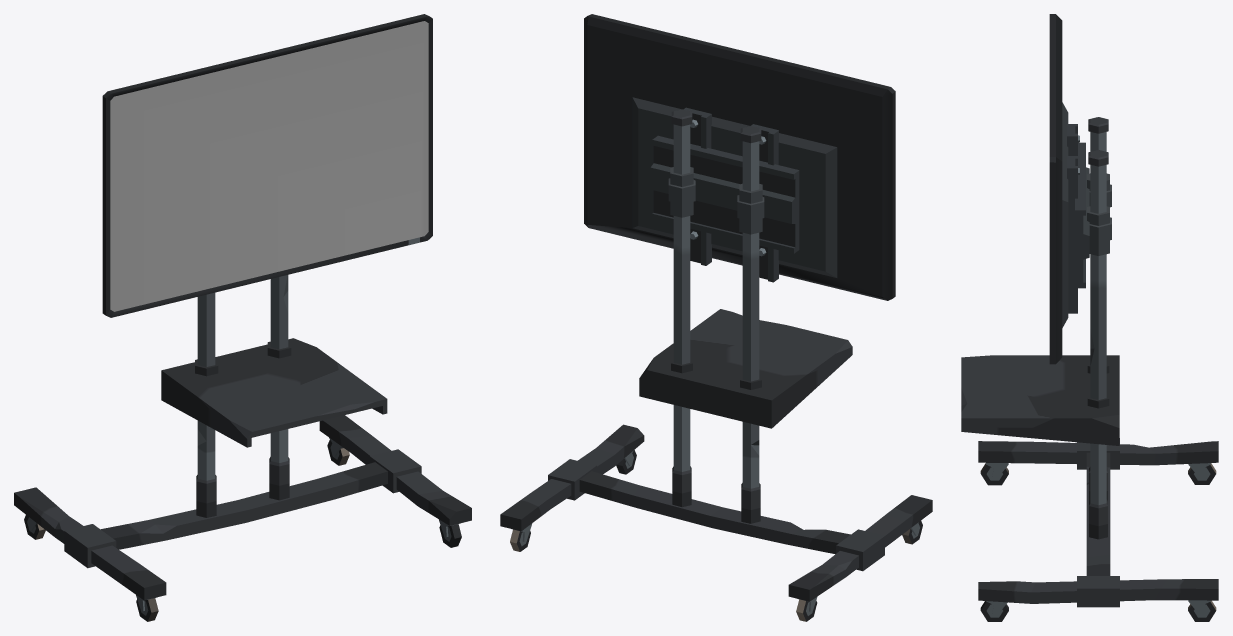
File: SM_Prop_TV_Stand_01.fbx
The picture shows the model from 3 angles, left to right: view 1: azimuth 30°, elevation 25°; view 2: azimuth 150°, elevation 25°; view 3: azimuth 270°, elevation 25°; orthographic projection. The views are drawn at different scales.
Visible parts, largest first — view 1: SM_Prop_TV_Stand_01; view 2: SM_Prop_TV_Stand_01; view 3: SM_Prop_TV_Stand_01.
Part boxes in pixels (x1,y1,x2,y2): SM_Prop_TV_Stand_01: [14, 14, 471, 621]; SM_Prop_TV_Stand_01: [500, 14, 932, 621]; SM_Prop_TV_Stand_01: [961, 14, 1218, 621].
Bounding box in the file's own units: 144 × 209 × 104.
